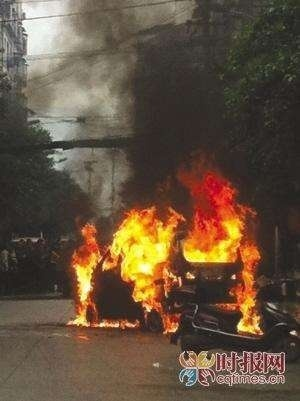fire: (64, 158, 268, 336)
